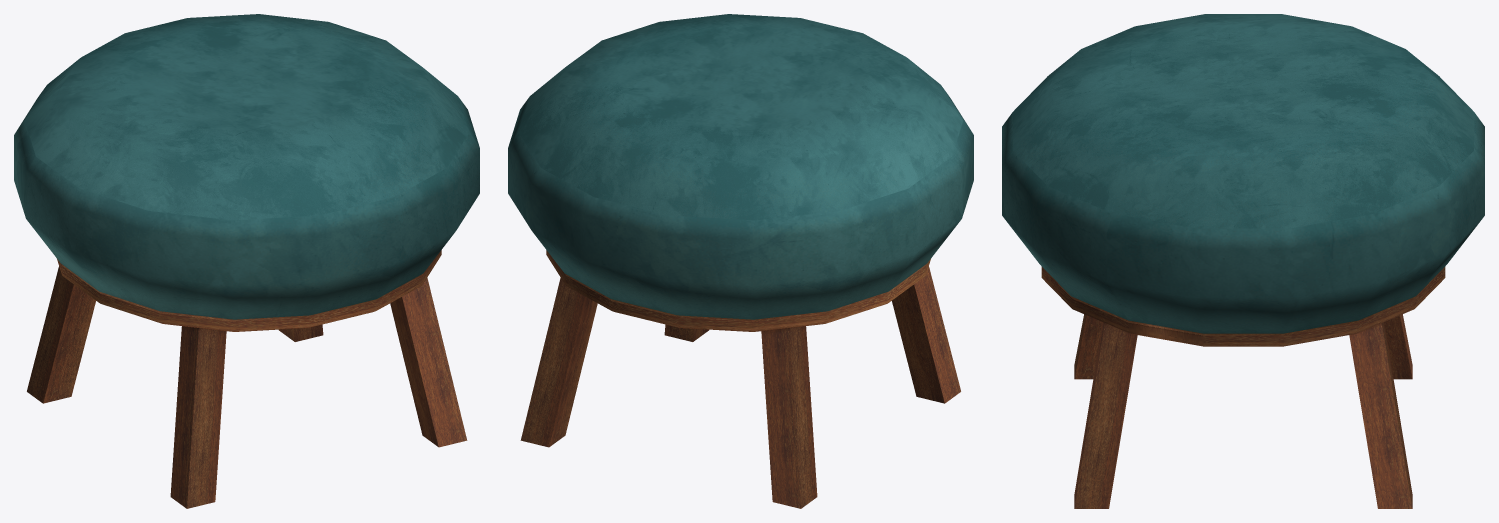
The model's file is Betrillo Ottoman.FBX.
3 views of the same model, side by side, from view 1: azimuth 30°, elevation 25°; view 2: azimuth 150°, elevation 25°; view 3: azimuth 270°, elevation 25° (orthographic). The views are drawn at different scales.
Visible parts, largest first — view 1: Betrillo Ottoman; view 2: Betrillo Ottoman; view 3: Betrillo Ottoman.
Boxes of the visible parts, <box> form: Betrillo Ottoman: <box>14,14,479,508</box>; Betrillo Ottoman: <box>508,14,973,508</box>; Betrillo Ottoman: <box>1002,14,1484,508</box>.
Bounding box in the file's own units: 0.6906 × 0.5614 × 0.6906.
1 material, 1 textured.
